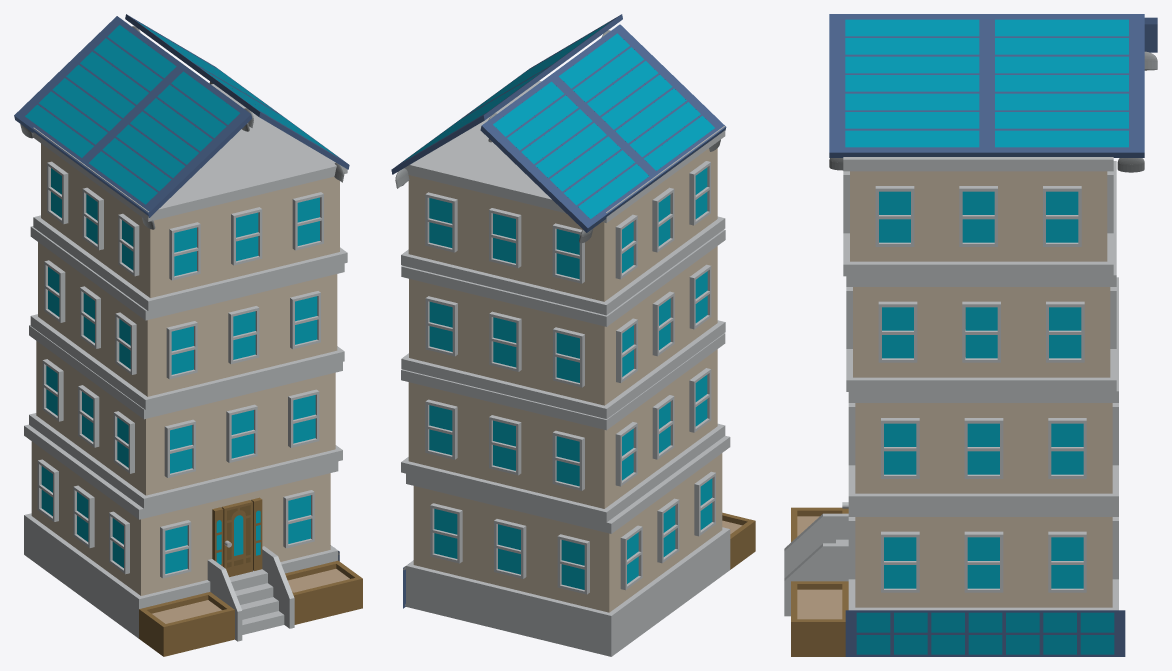
The model's file is Copy of Apartment Building.glb.
3 views of the same model, side by side, from view 1: azimuth 30°, elevation 25°; view 2: azimuth 150°, elevation 25°; view 3: azimuth 270°, elevation 25° (orthographic). The views are drawn at different scales.
Parts seen in each view (by area): view 1: Mesh_Mesh_head_geo.001_lambert2SG.001; view 2: Mesh_Mesh_head_geo.001_lambert2SG.001; view 3: Mesh_Mesh_head_geo.001_lambert2SG.001.
Part boxes in pixels (left/top/right/bottom): Mesh_Mesh_head_geo.001_lambert2SG.001: left=14, top=14, right=362, bottom=656; Mesh_Mesh_head_geo.001_lambert2SG.001: left=391, top=14, right=755, bottom=656; Mesh_Mesh_head_geo.001_lambert2SG.001: left=784, top=14, right=1157, bottom=656.
Bounding box in the file's own units: 43.49 × 102 × 58.
